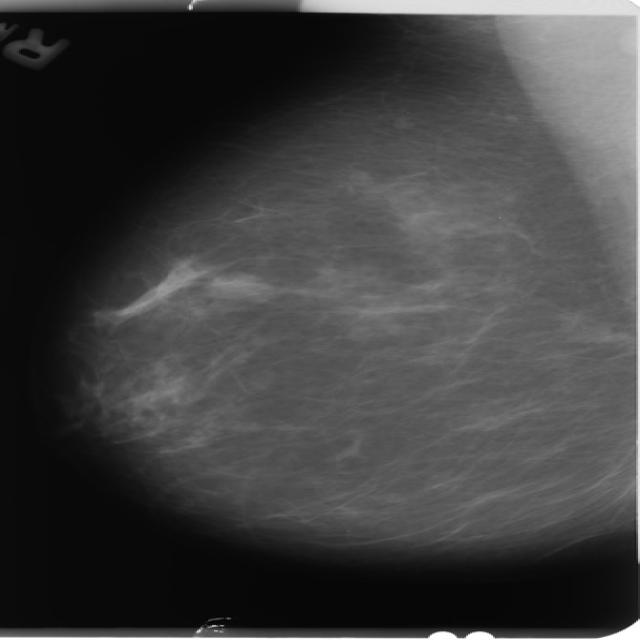tumour: (204, 269, 270, 299)
